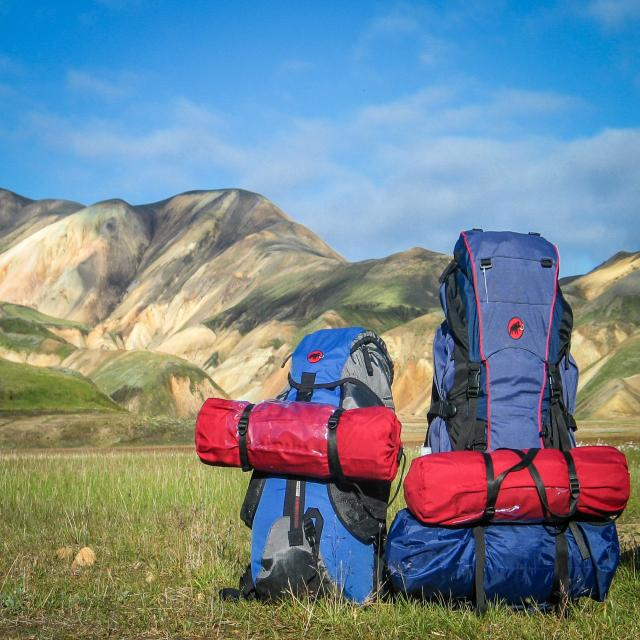backpack: (413, 223, 627, 516), (197, 322, 397, 602)
